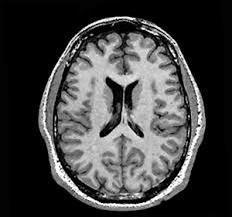Normal_Brain: (12, 1, 220, 217)
